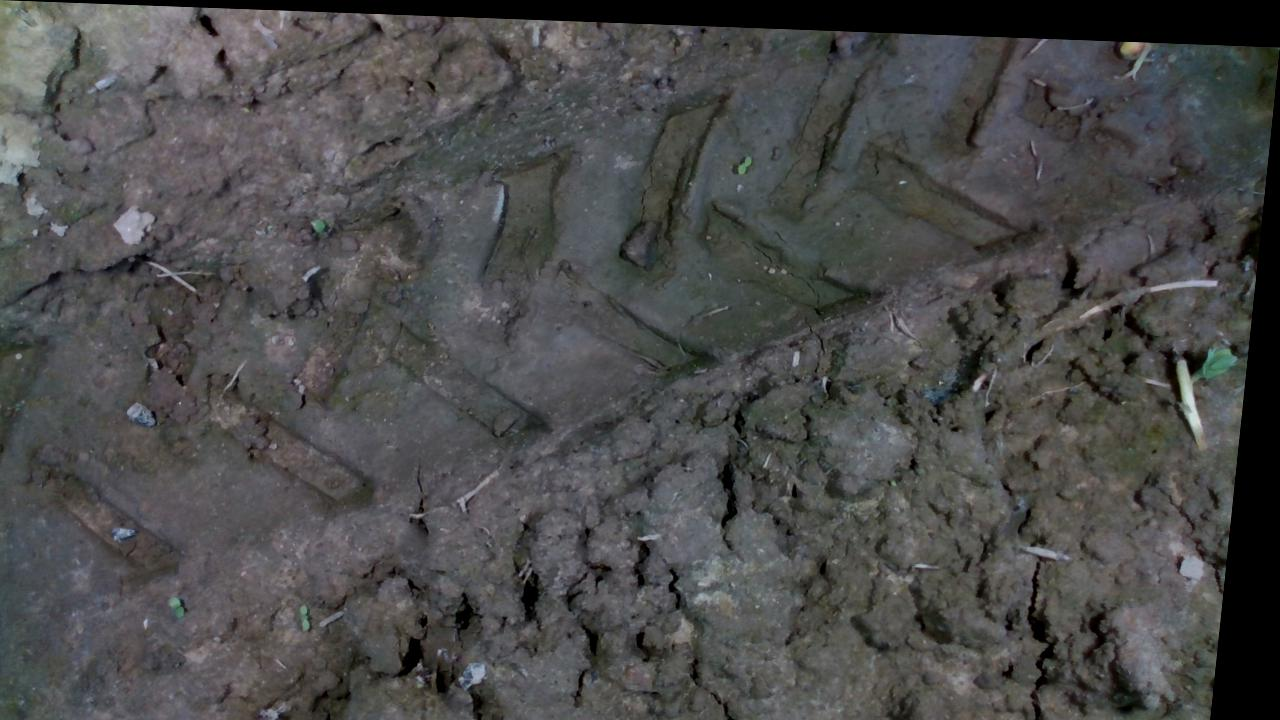weed: (306, 597, 325, 630), (177, 592, 199, 616), (740, 148, 755, 169)
